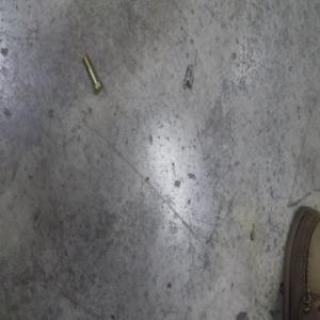Bolttrack_idkeyframe: (81, 50, 103, 95)
